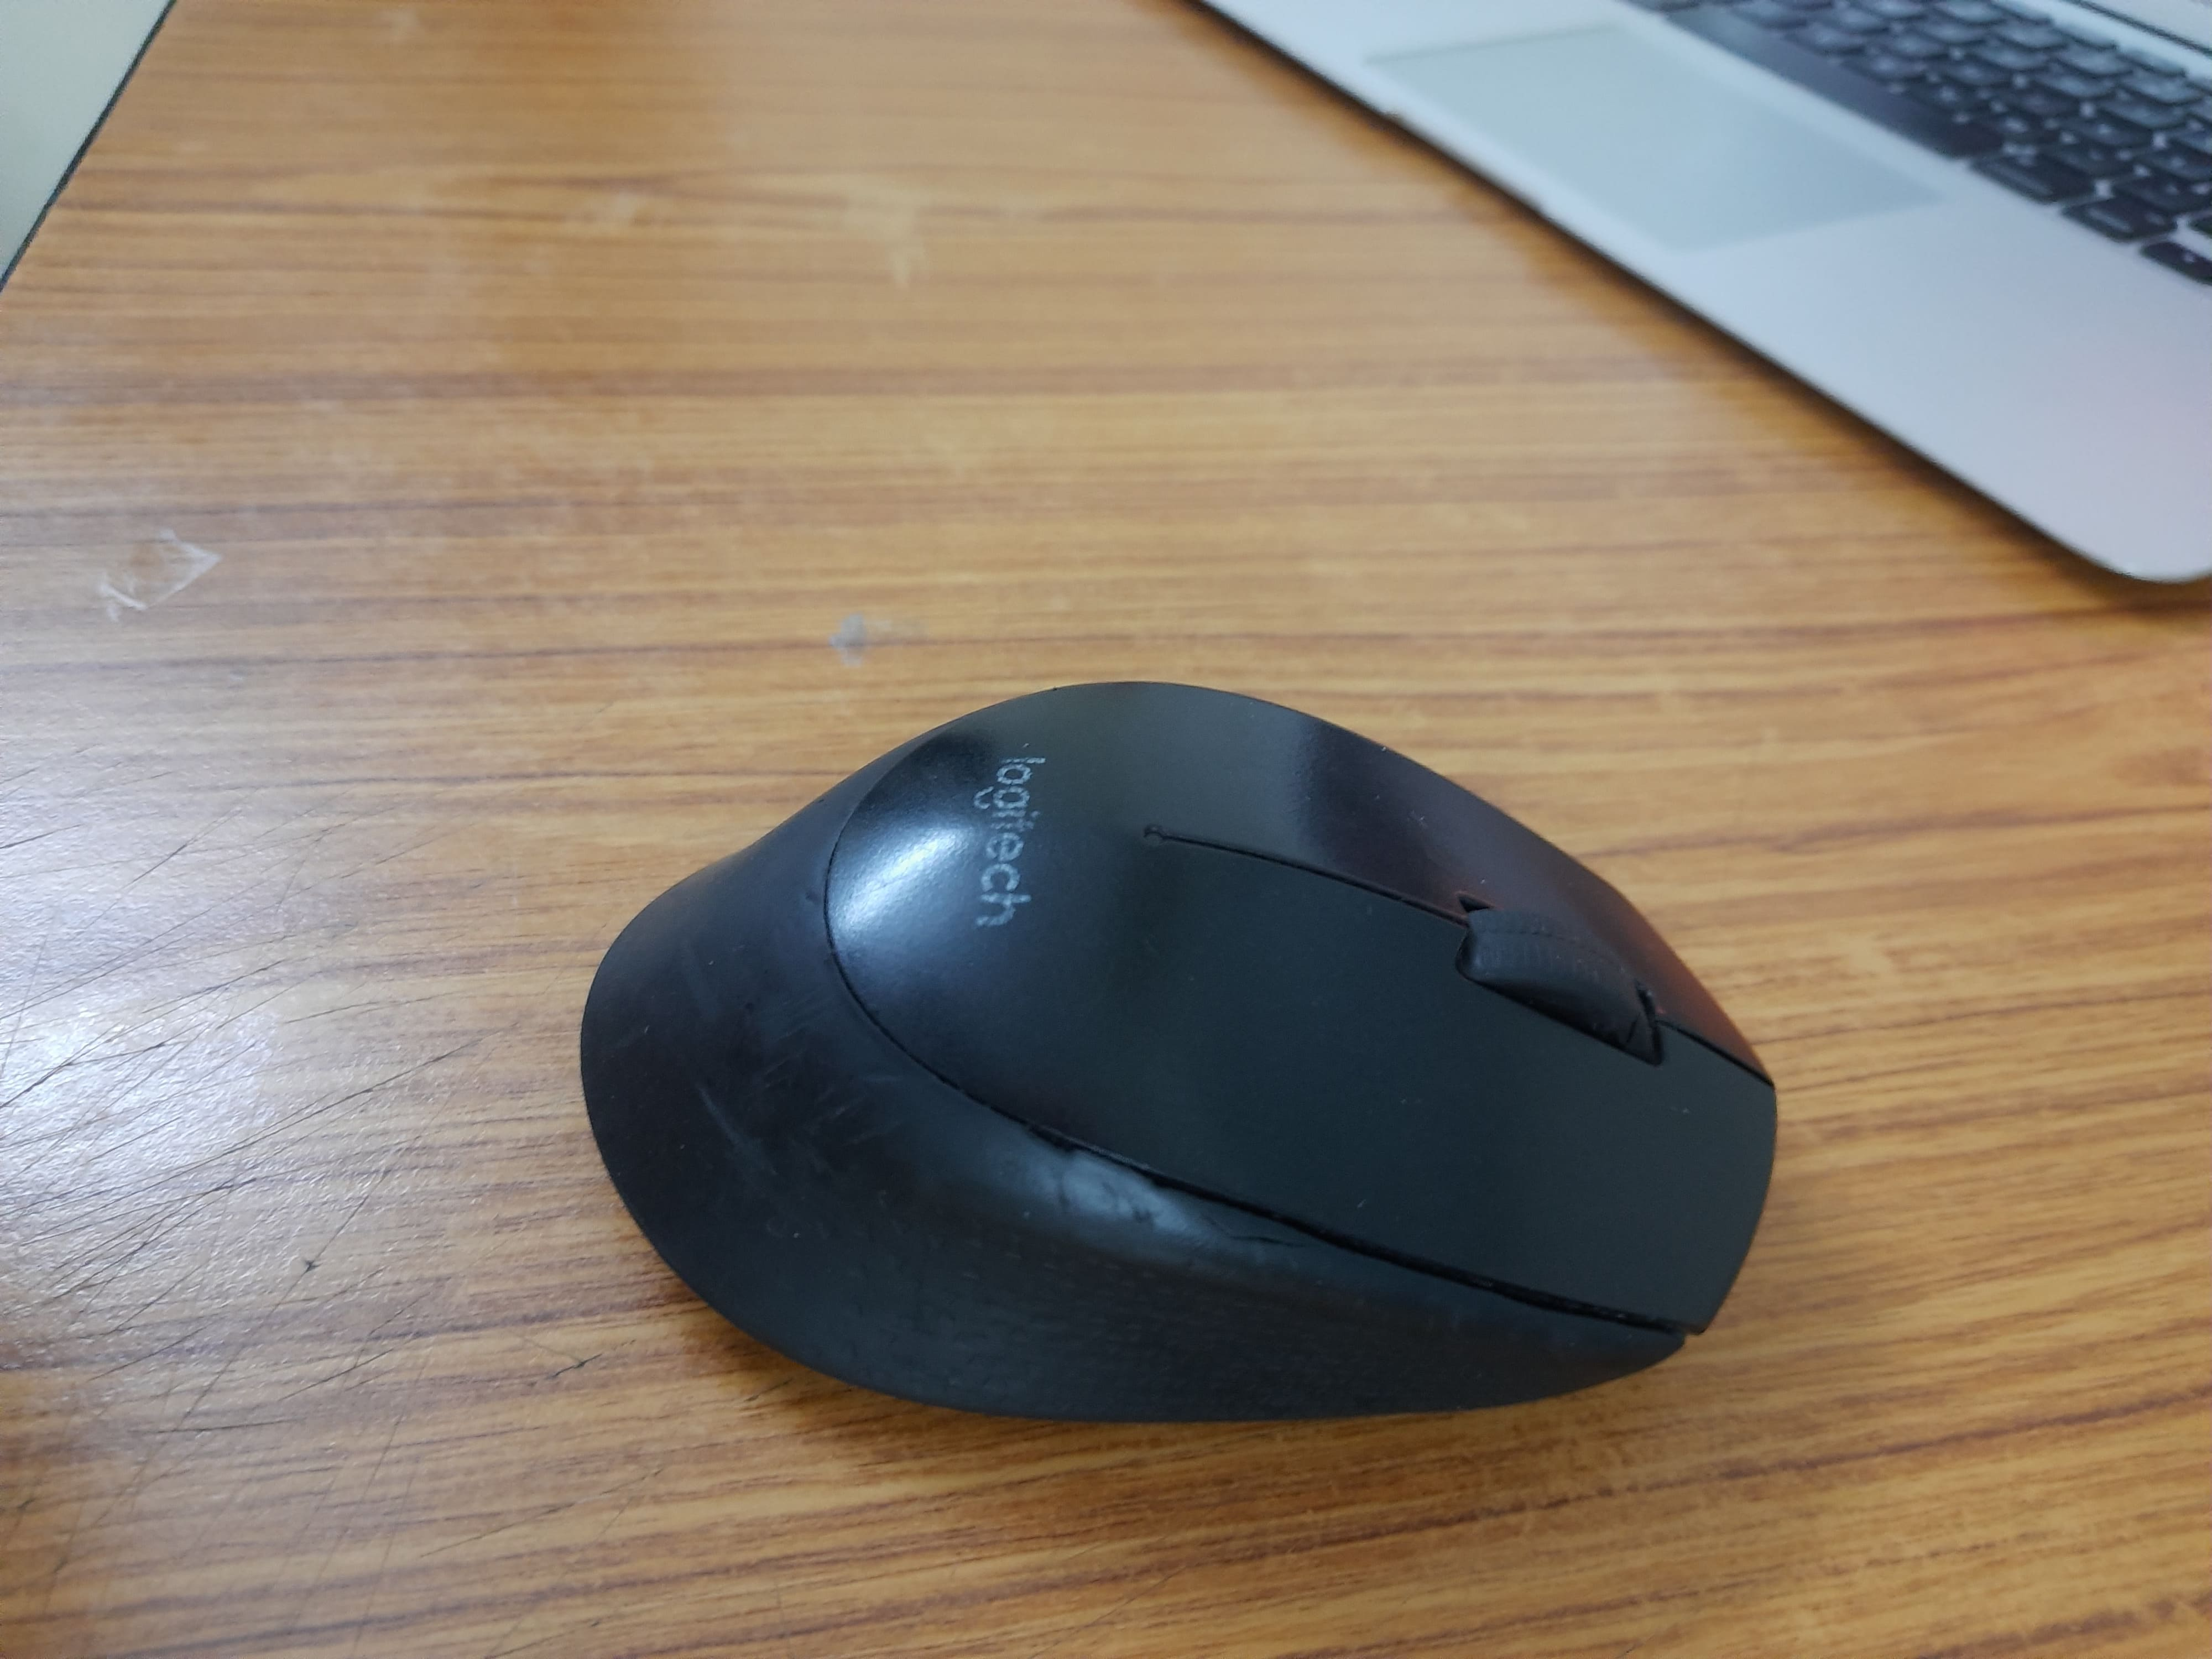Vikash's Mouse: (575, 676, 1784, 1452)
